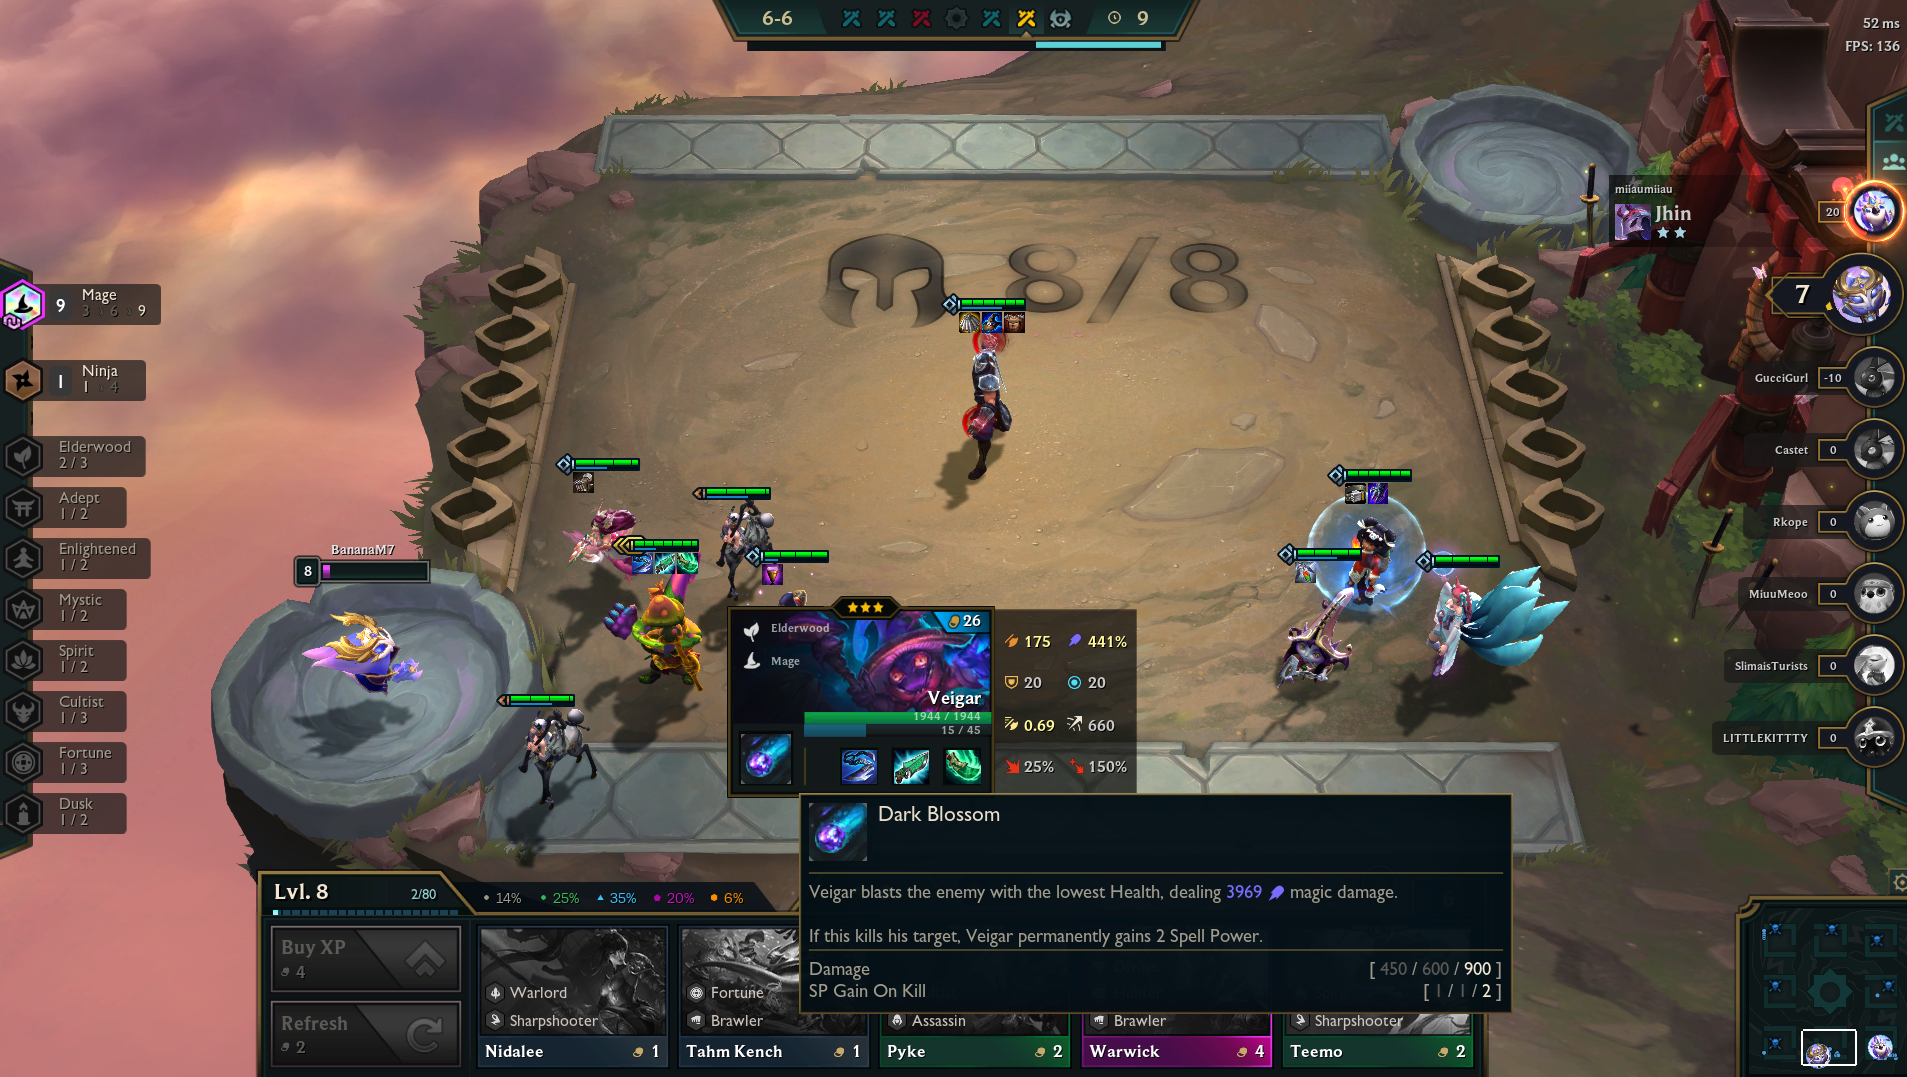1star_lillia: (678, 474, 802, 617), (489, 680, 610, 823)
2star_ahri: (1398, 538, 1577, 723)
2star_annie: (1293, 453, 1438, 622)
2star_lulu: (1260, 529, 1378, 717)
2star_nami: (544, 442, 698, 608)
2star_shen: (925, 279, 1043, 498)
3star_veigar: (595, 523, 720, 730)
item_belt: (1340, 478, 1367, 506)
item_bramble: (1001, 307, 1029, 334)
item_chalice: (757, 557, 785, 584)
item_giantslayer: (627, 546, 655, 575)
item_glove: (568, 466, 596, 494)
item_gunblade: (651, 549, 678, 576)
item_mage: (977, 307, 1005, 335)
item_negatron: (955, 307, 984, 335)
item_redemption: (1291, 556, 1320, 584)
item_shojin: (673, 546, 701, 575)
item_trapclaw: (1363, 478, 1391, 506)
trait_adept1: (1, 481, 176, 533)
trait_cultist1: (1, 684, 176, 736)
trait_dusk1: (1, 787, 176, 840)
trait_elderwood2: (1, 431, 176, 483)
trait_enlightened1: (1, 532, 176, 584)
trait_fortune1: (1, 731, 176, 784)
trait_mage9: (1, 275, 177, 334)
trait_mage_chosen: (1, 275, 48, 333)
trait_mystic1: (1, 582, 176, 634)
trait_ninja1: (1, 351, 177, 410)
trait_spirit1: (1, 634, 176, 687)
